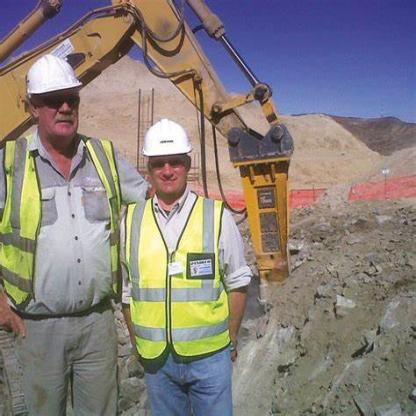person: (3, 55, 128, 411), (122, 110, 251, 410)
